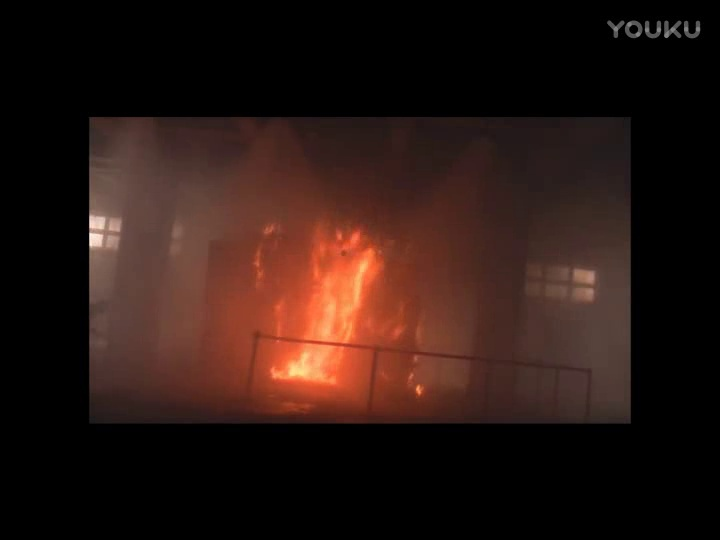fire: (267, 228, 388, 385)
